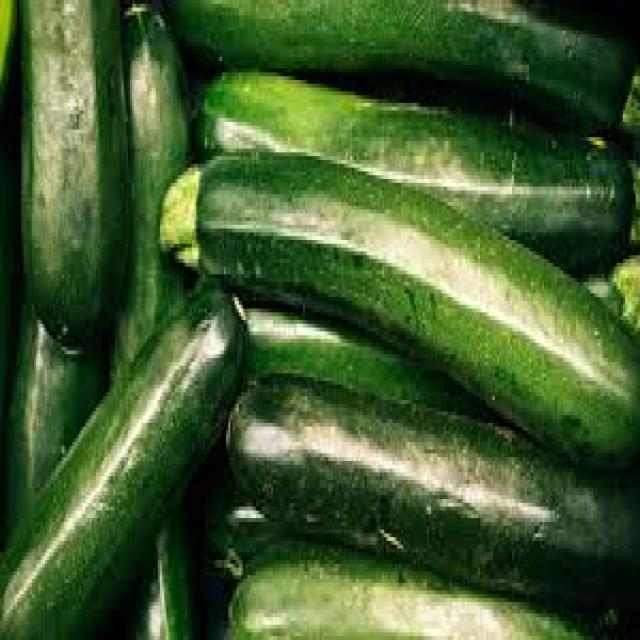Zucchini: (164, 162, 640, 354)
